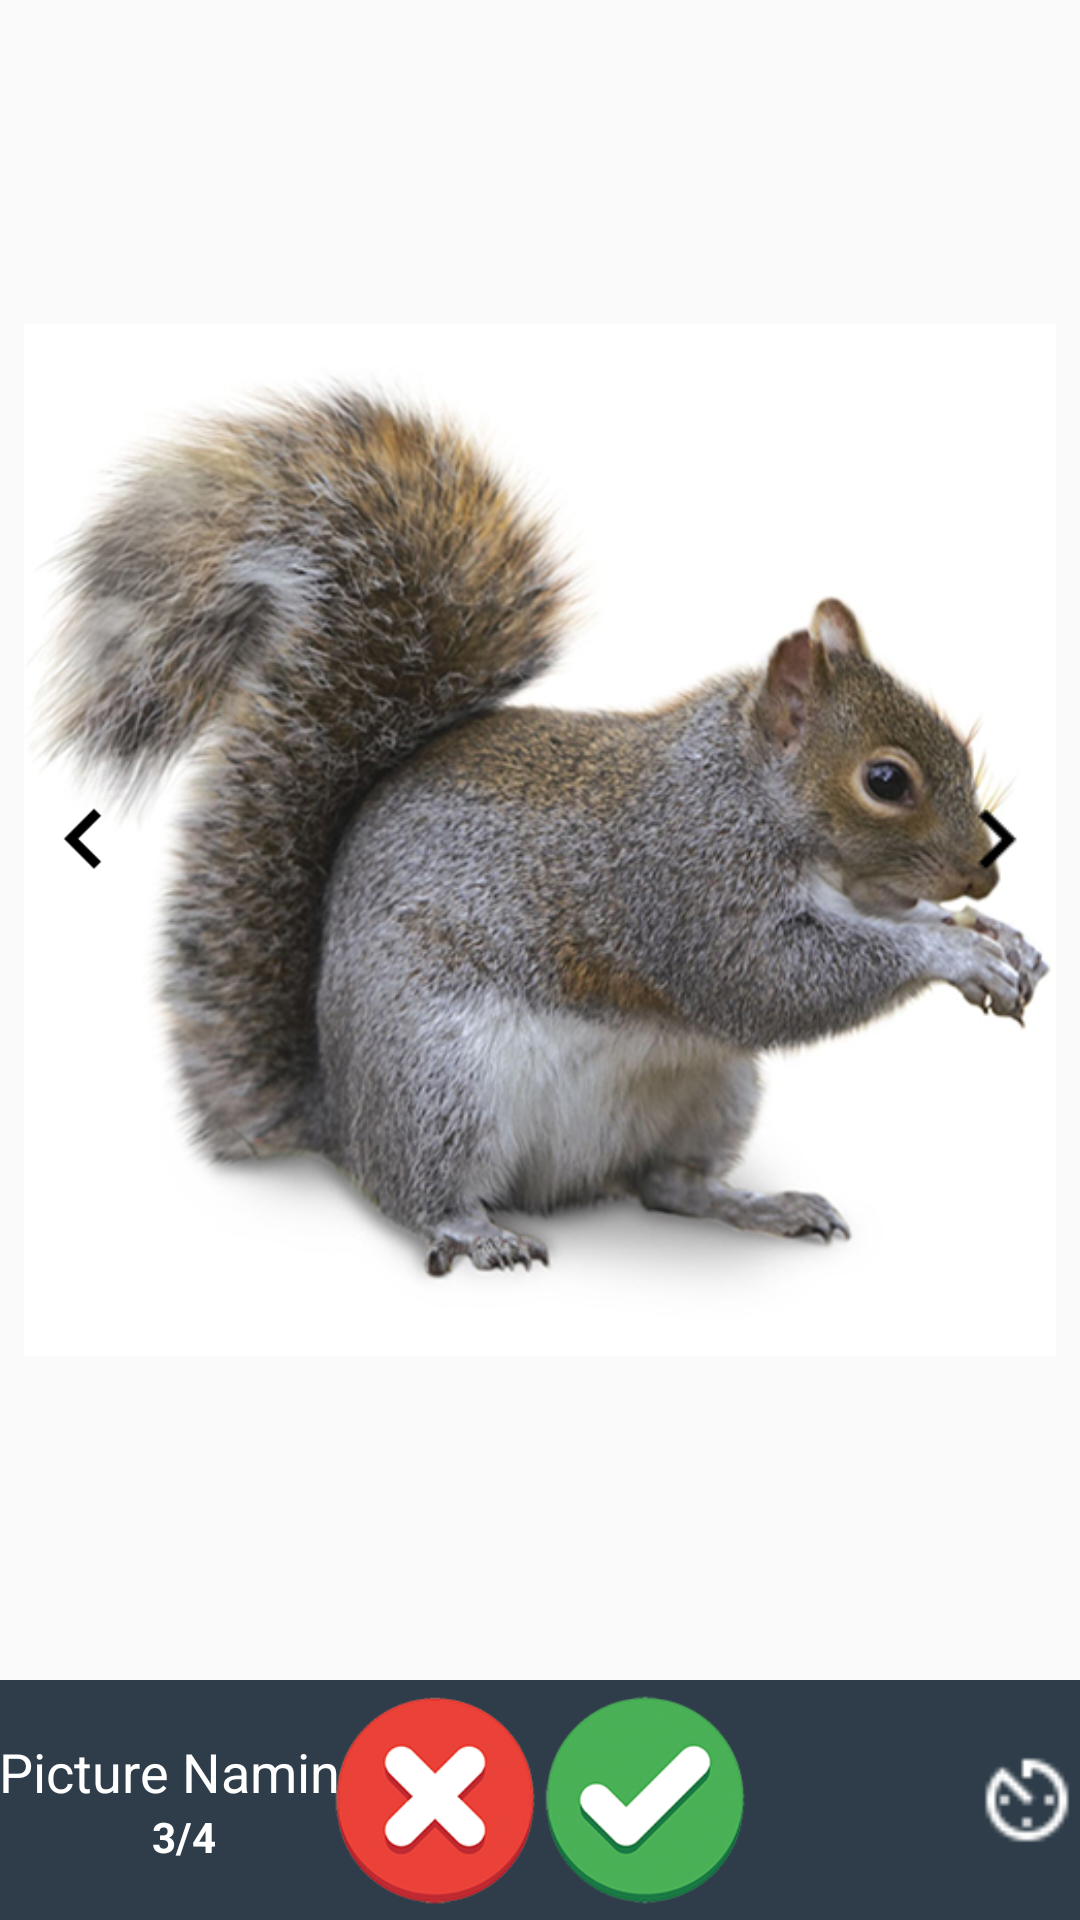

Named icons in this screenshot (1080*1920) and their centers, point (x, y):
av timer: point (1027, 1800)
correct: point (645, 1799)
keyboard arrow left: point (83, 838)
wrong: point (432, 1800)
